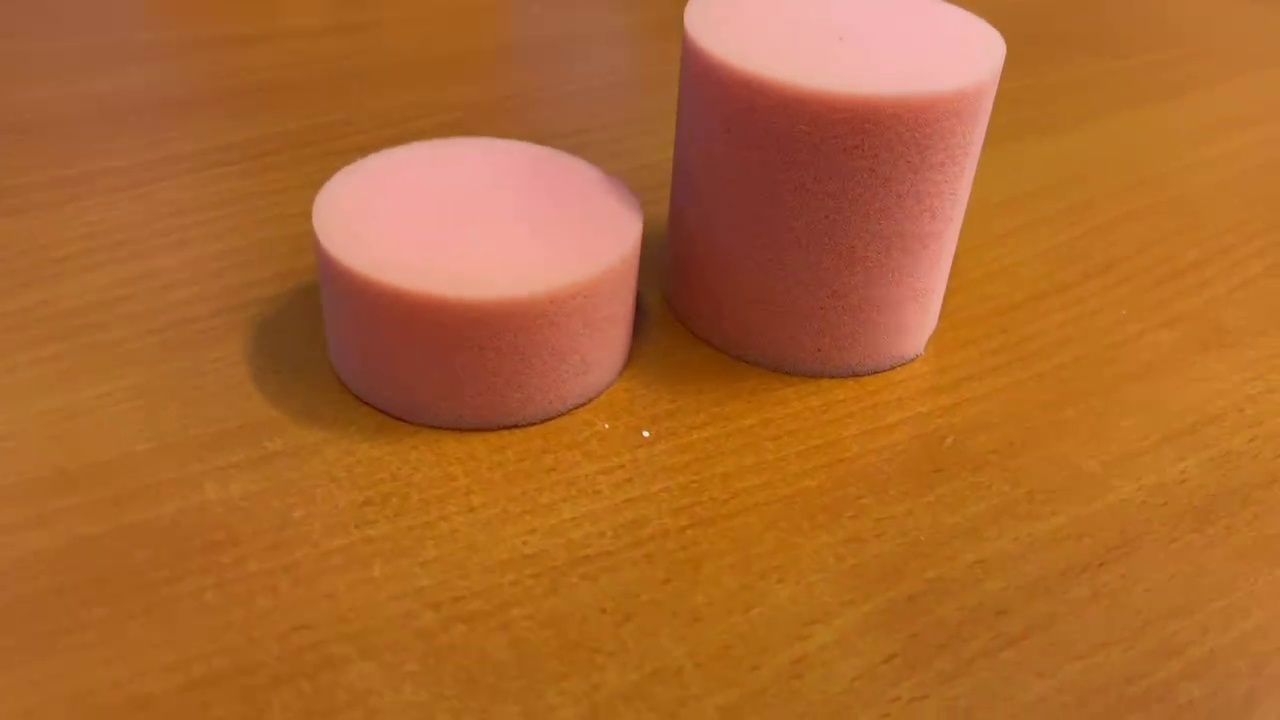Clyinder_short: (305, 131, 645, 435)
Cylinder: (657, 1, 1012, 388)
